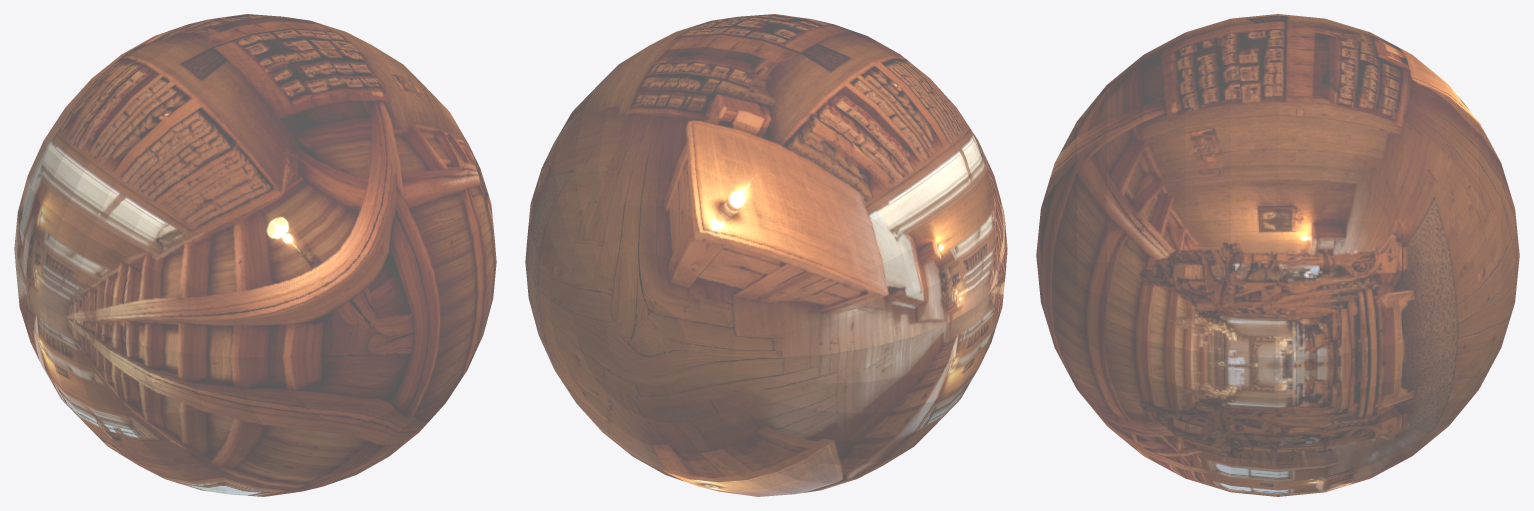
Rendered from FIRJAN_XR_Sphere_360_03.glb.
3 views of the same model, side by side, from view 1: azimuth 30°, elevation 25°; view 2: azimuth 150°, elevation 25°; view 3: azimuth 270°, elevation 25° (orthographic).
Parts seen in each view (by area): view 1: Sphere_360_03; view 2: Sphere_360_03; view 3: Sphere_360_03.
Part boxes in pixels (bbox=[...]): Sphere_360_03: bbox=[14, 14, 496, 496]; Sphere_360_03: bbox=[525, 14, 1007, 496]; Sphere_360_03: bbox=[1036, 14, 1519, 496].
Size of the model in its own units: 20 by 20 by 20.
Materials: 1 (1 with a texture image).
